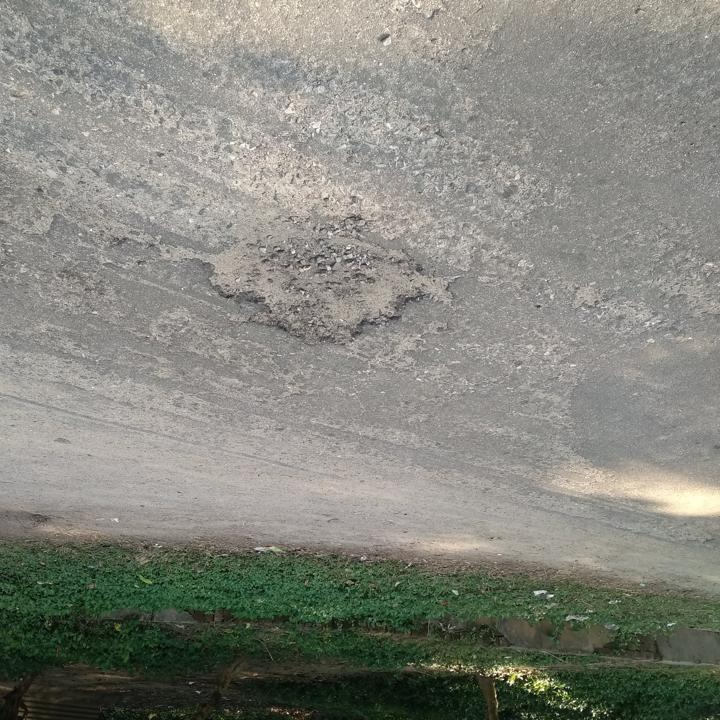pothole: (186, 217, 461, 351)
